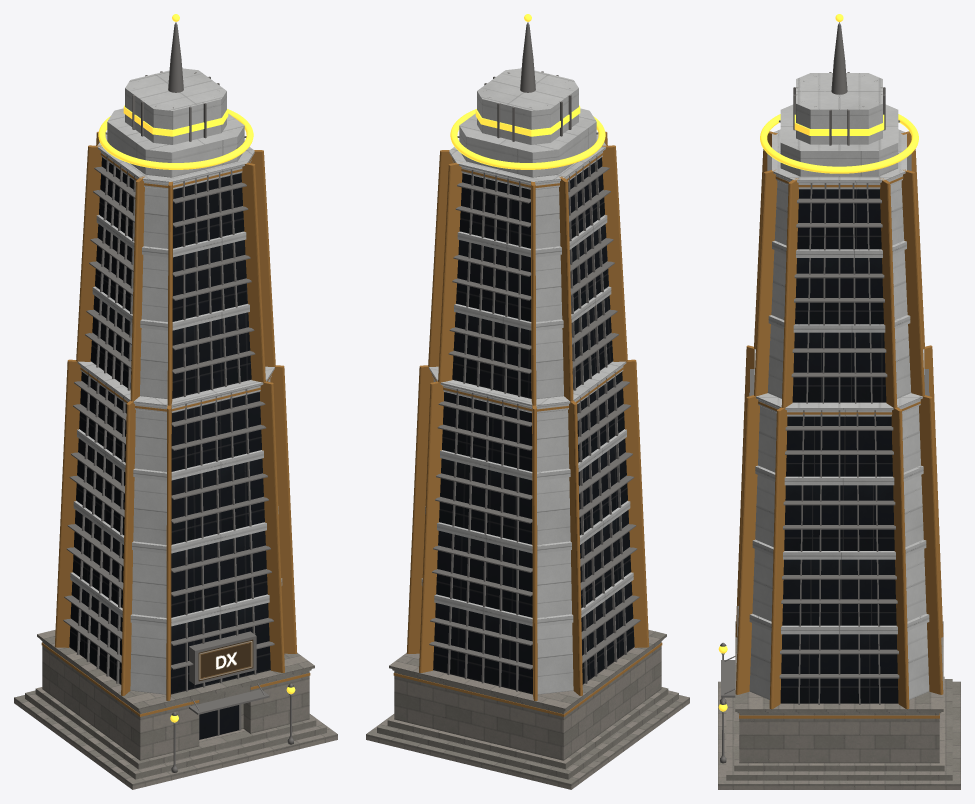
Rendered from diagnostic-x.glb.
The picture shows the model from 3 angles, left to right: view 1: azimuth 30°, elevation 25°; view 2: azimuth 150°, elevation 25°; view 3: azimuth 270°, elevation 25°; orthographic projection. The views are drawn at different scales.
Parts seen in each view (by area): view 1: Landmark · Diagnostic.X; view 2: Landmark · Diagnostic.X; view 3: Landmark · Diagnostic.X.
Boxes of the visible parts, bbox=[...] form: Landmark · Diagnostic.X: bbox=[14, 14, 337, 789]; Landmark · Diagnostic.X: bbox=[366, 14, 689, 789]; Landmark · Diagnostic.X: bbox=[718, 14, 960, 789].
Size of the model in its own units: 12 by 39.5 by 12.
Materials: 7 (4 with a texture image).
